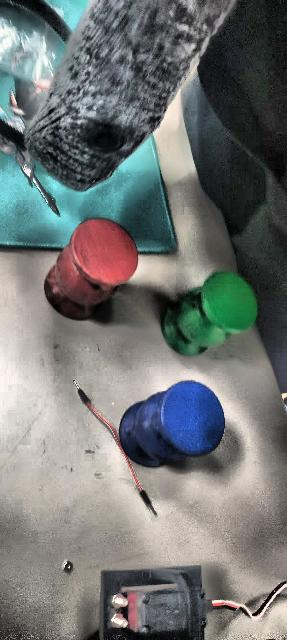blue: (118, 379, 226, 467)
green: (160, 271, 254, 358)
red: (43, 218, 138, 320)
